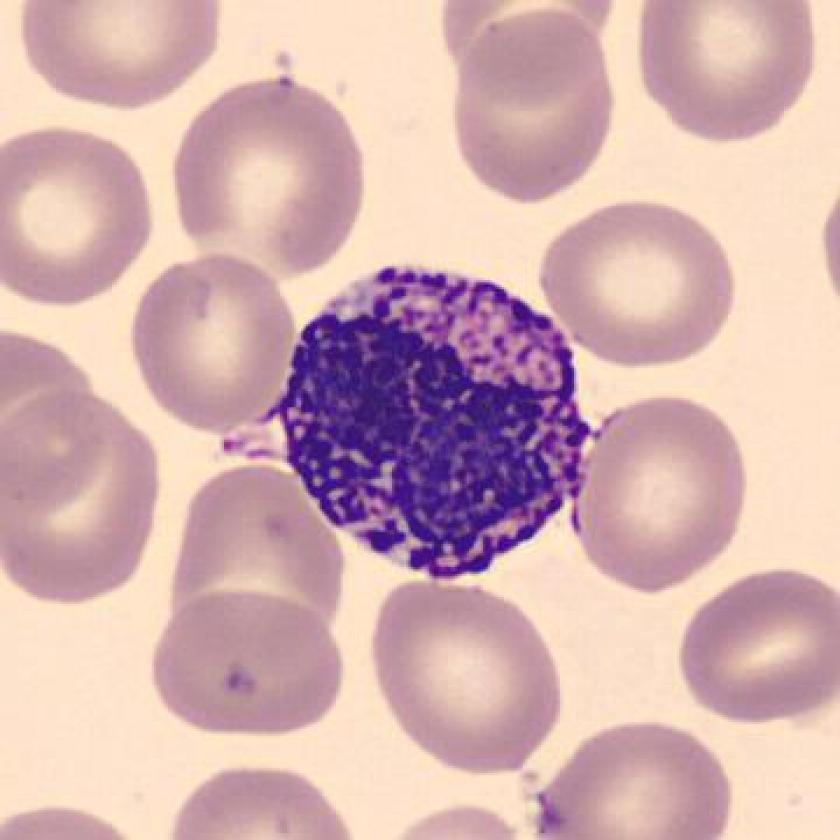basophil: (274, 253, 584, 582)
